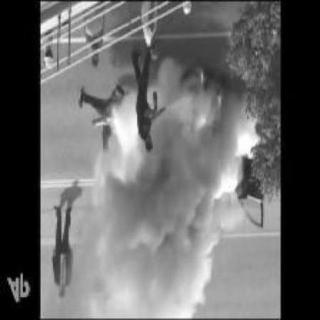Smoke: (66, 74, 266, 318)
